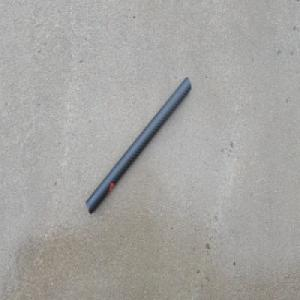LuggagePart: (82, 76, 193, 222)
